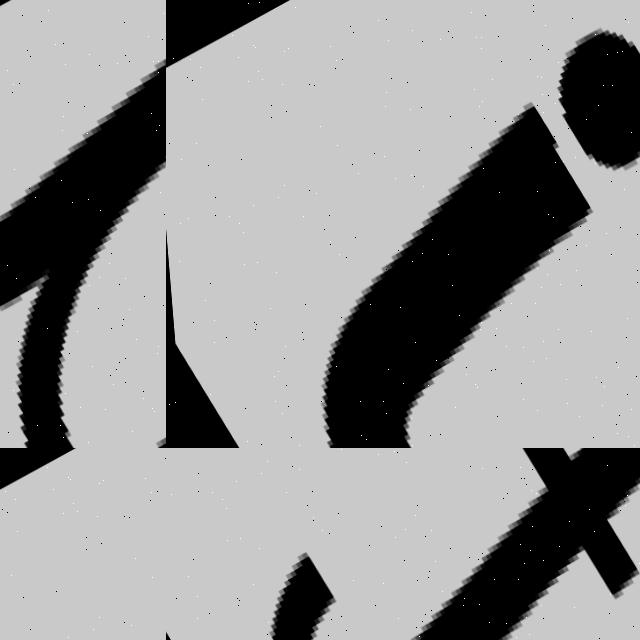J: (168, 5, 640, 448)
T: (166, 448, 640, 640)
U: (0, 0, 166, 448)
Y: (0, 448, 166, 640)
